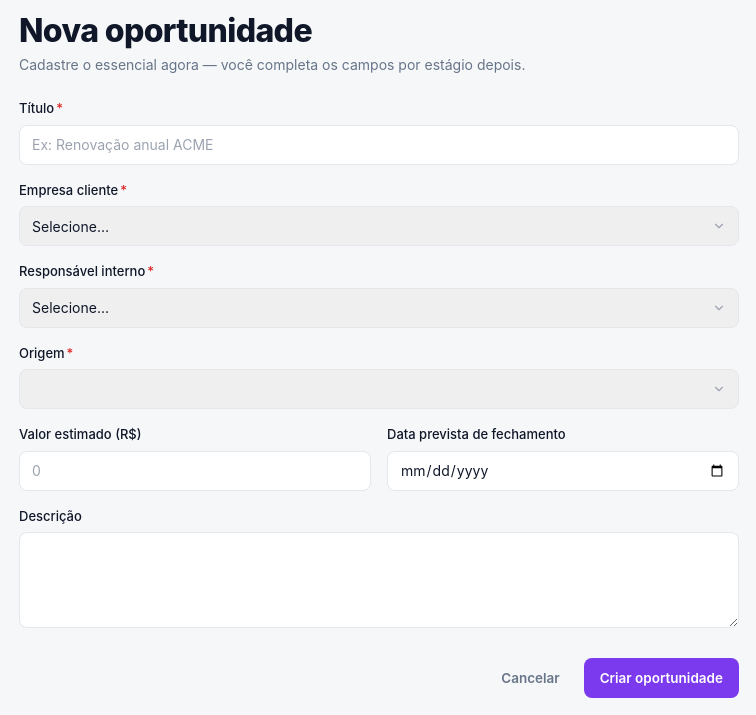
Test: /pipeline/new (P-53 piloto Testing Library) › Valor estimado aplica máscara BRL em tempo real durante digitação
Type "289311" into the field labelled "Valor estimado (R$)" at (195, 471), box [19, 451, 371, 491]
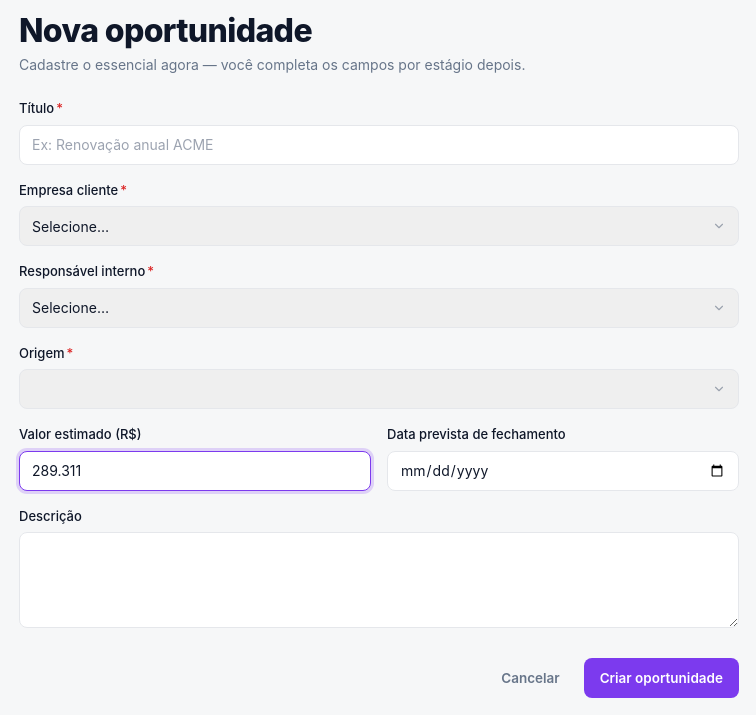
Now the field labelled "Valor estimado (R$)" holds "289.311", box [19, 451, 371, 491]
